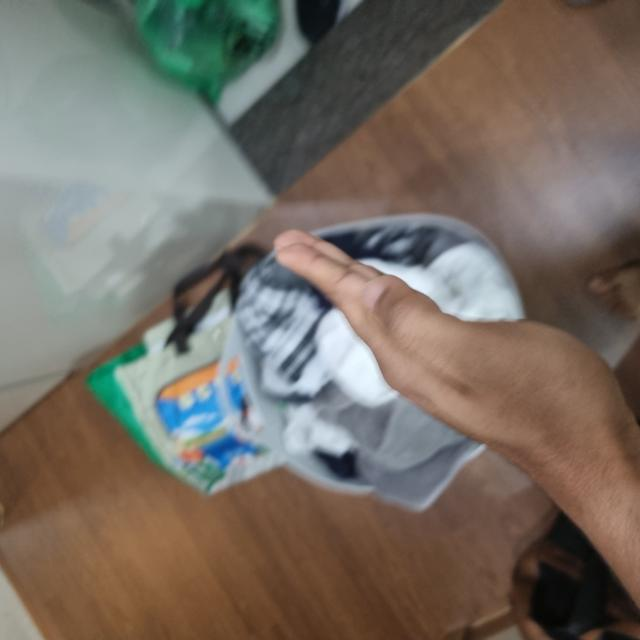Paper: (158, 275, 408, 635)
